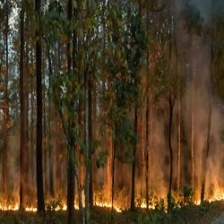fire: (1, 192, 224, 216)
